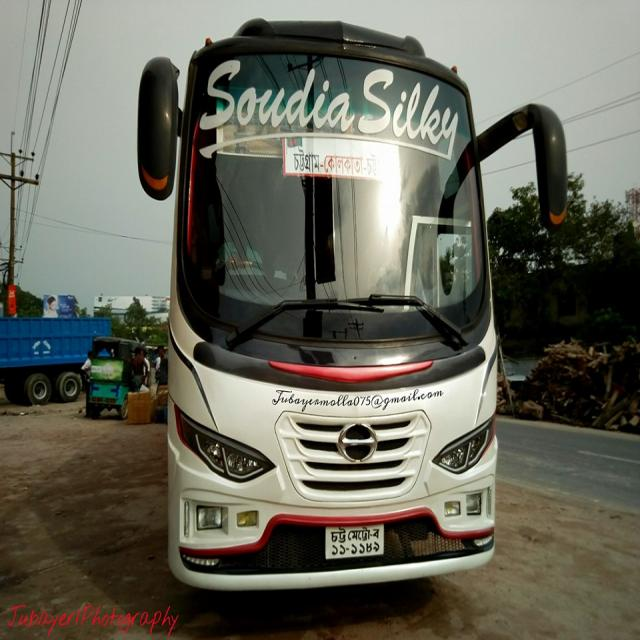bus: (136, 12, 570, 589)
